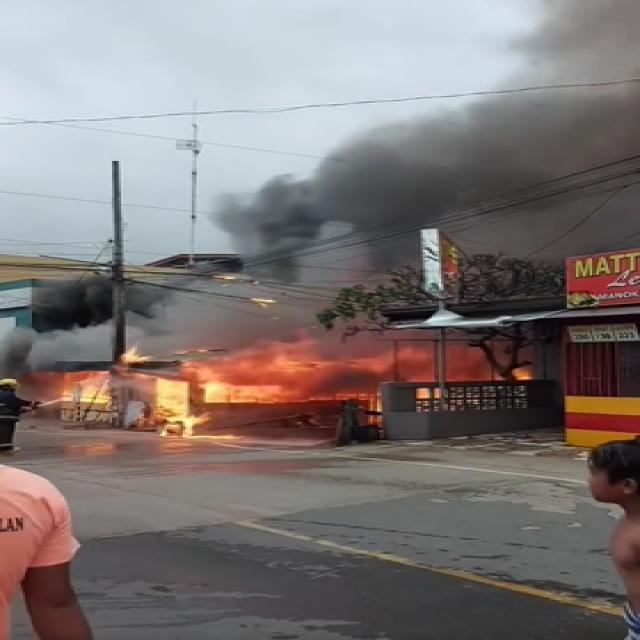Fire: (124, 348, 386, 428), (71, 368, 206, 421)
Smoke: (493, 2, 640, 244), (222, 184, 391, 330), (322, 132, 558, 230), (166, 274, 284, 348)
